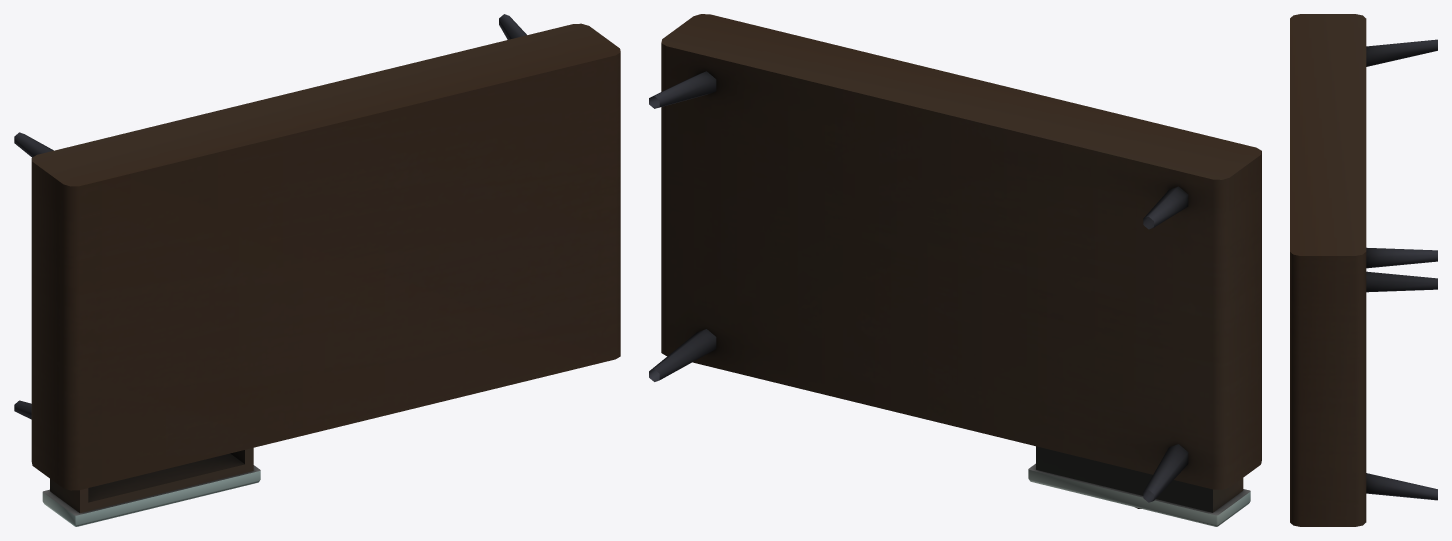
File: coffee-table-8dcb87.glb
3 renders of one model, left to right at view 1: azimuth 30°, elevation 25°; view 2: azimuth 150°, elevation 25°; view 3: azimuth 270°, elevation 25°, orthographic. The views are drawn at different scales.
Parts seen in each view (by area): view 1: PropMesh; view 2: PropMesh; view 3: PropMesh.
Part boxes in pixels (x1,y1,x2,y2): PropMesh: [14, 14, 620, 526]; PropMesh: [649, 14, 1261, 526]; PropMesh: [1290, 14, 1437, 526].
Bounding box in the file's own units: 3.55 × 2.2 × 0.9177.
Materials: 1 (1 with a texture image).
